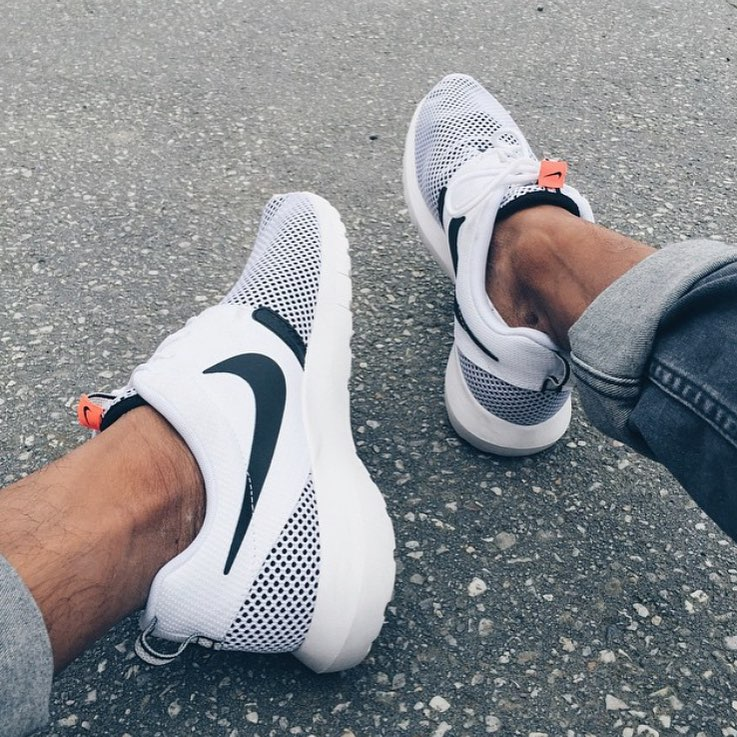sneaker: (64, 172, 421, 695), (390, 61, 604, 470)
